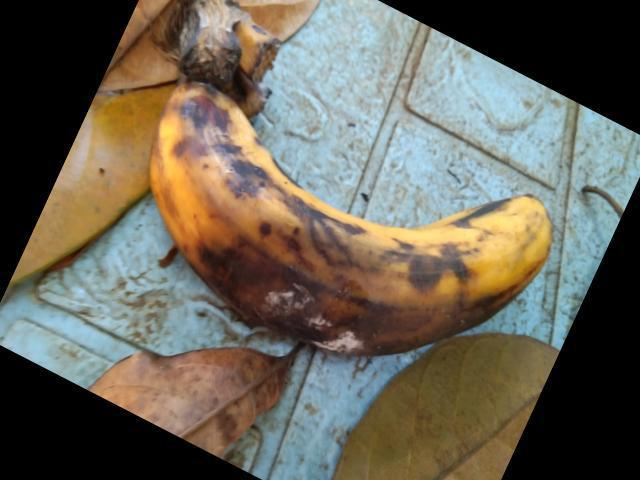rotten: (145, 83, 564, 391)
